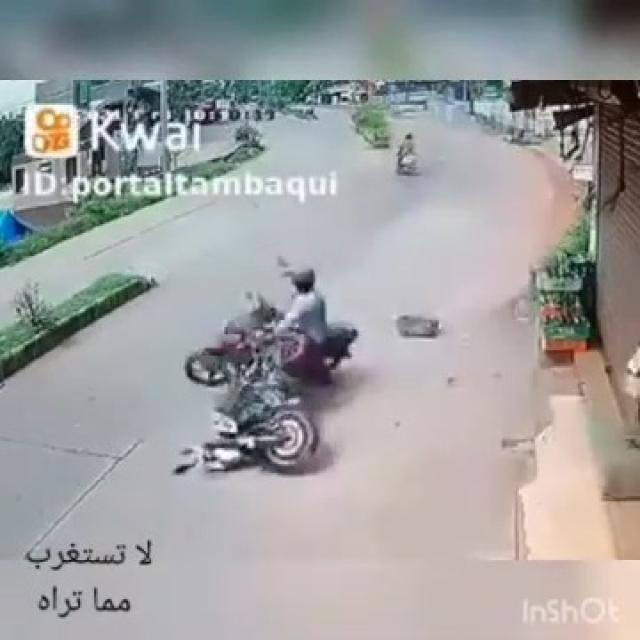accident: (167, 343, 341, 480)
